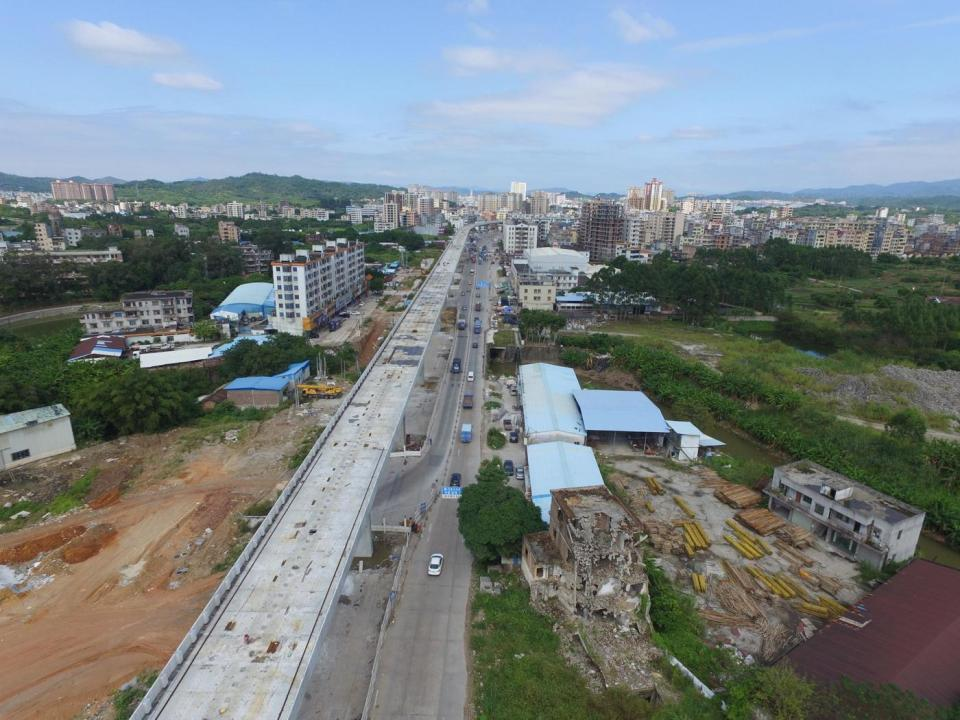bus: (470, 269, 474, 275)
car: (427, 552, 443, 575), (451, 472, 460, 489), (505, 461, 512, 477), (516, 466, 524, 480), (509, 431, 518, 443), (505, 419, 512, 430), (308, 334, 320, 339), (509, 387, 516, 395), (495, 285, 503, 289), (494, 283, 502, 287), (497, 290, 505, 294), (472, 342, 478, 347), (461, 290, 465, 296), (503, 265, 510, 268), (468, 280, 472, 285), (475, 294, 480, 298), (462, 305, 466, 310), (494, 300, 496, 306), (467, 289, 470, 292), (476, 286, 479, 289)
truck: (461, 423, 472, 443), (329, 318, 341, 331), (463, 394, 473, 408), (452, 358, 461, 373), (458, 314, 465, 330), (474, 320, 480, 332), (475, 301, 482, 311)
van: (466, 372, 474, 382)
